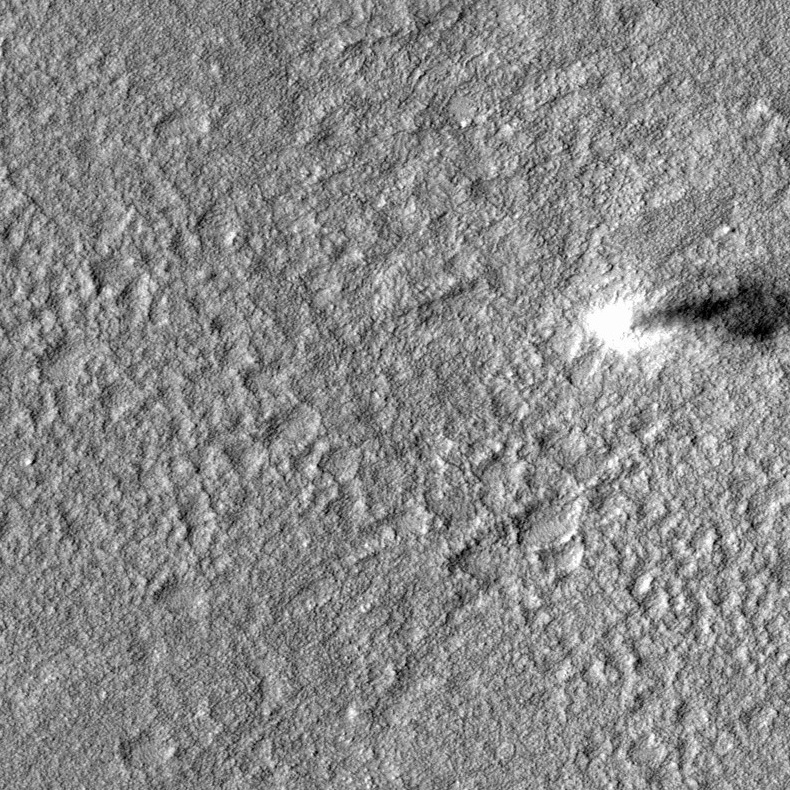dust_devil: (576, 270, 790, 367)
